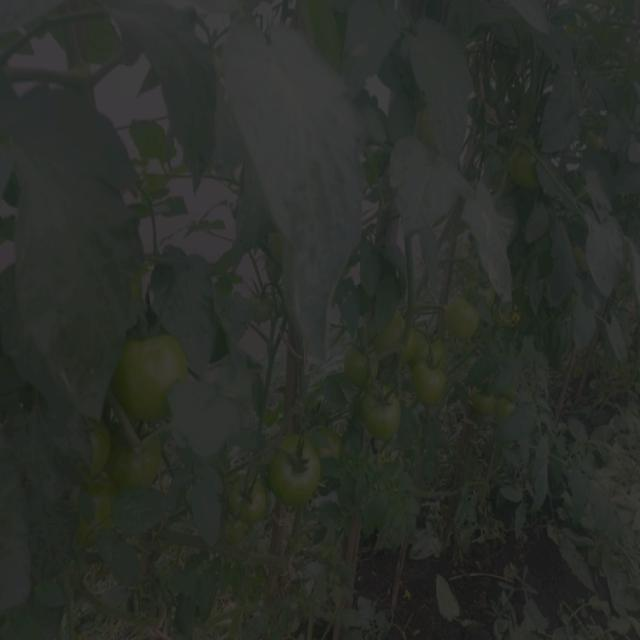tomato: (126, 333, 186, 414), (268, 437, 321, 502), (115, 439, 163, 484), (361, 386, 406, 429), (83, 423, 115, 482), (443, 292, 483, 337), (226, 476, 268, 517), (341, 348, 377, 389), (418, 363, 450, 398), (515, 152, 538, 186), (471, 389, 497, 415)
